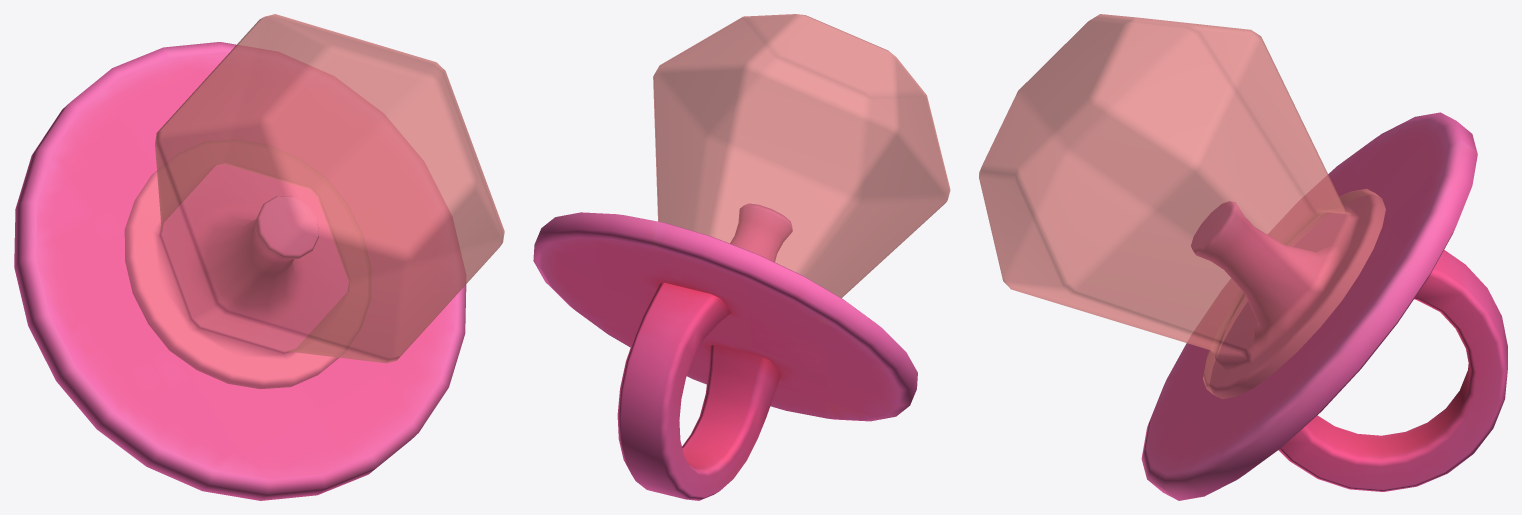
The model's file is ref_gtringcandy.fbx.
The picture shows the model from 3 angles, left to right: view 1: azimuth 30°, elevation 25°; view 2: azimuth 150°, elevation 25°; view 3: azimuth 270°, elevation 25°; orthographic projection. The views are drawn at different scales.
Visible parts, largest first — view 1: ref_gtringcandy_part1, ref_gtringcandy_part0; view 2: ref_gtringcandy_part1, ref_gtringcandy_part0; view 3: ref_gtringcandy_part0, ref_gtringcandy_part1.
Part boxes in pixels (x1,y1,x2,y2): ref_gtringcandy_part1: (14,42,466,500); ref_gtringcandy_part0: (124,14,504,388); ref_gtringcandy_part1: (533,203,917,500); ref_gtringcandy_part0: (653,14,950,298); ref_gtringcandy_part0: (979,14,1385,398); ref_gtringcandy_part1: (1141,112,1507,500).
Size of the model in its own units: 89.76 by 96.2 by 100.
